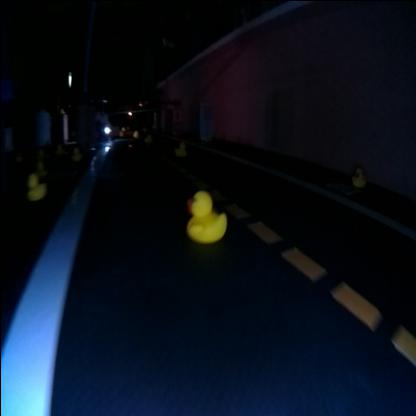Duckie: (186, 190, 224, 240), (28, 174, 45, 198), (353, 168, 366, 186)
